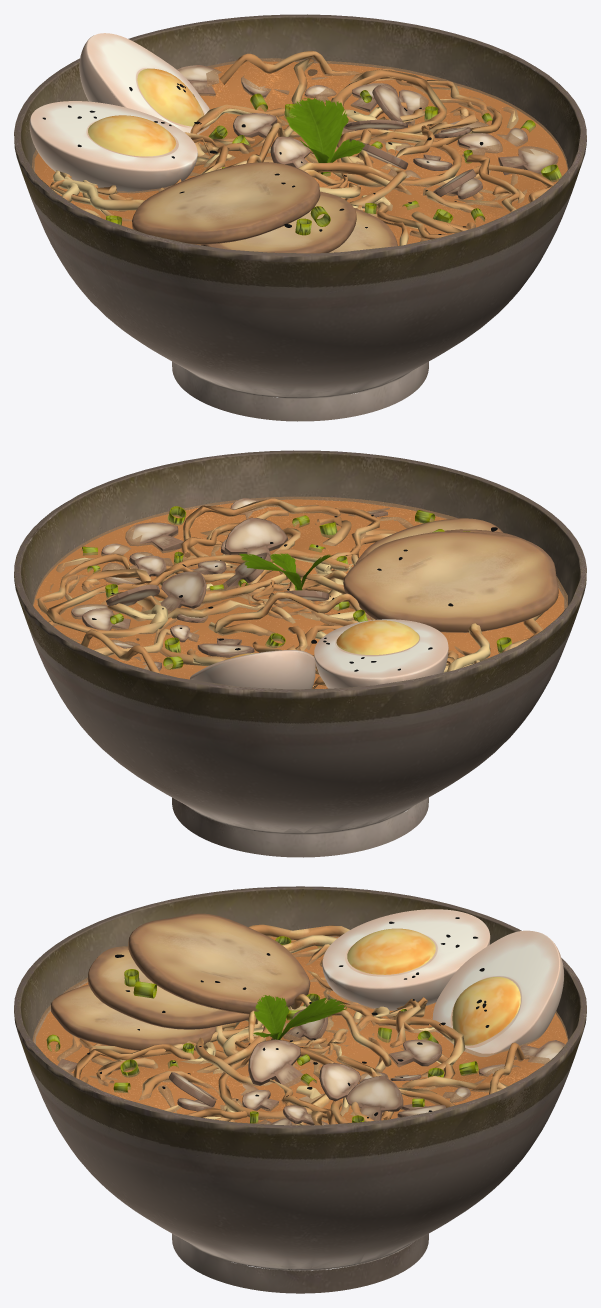
The model's file is tori-paitan.glb.
The picture shows the model from 3 angles, top to bottom: view 1: azimuth 30°, elevation 25°; view 2: azimuth 150°, elevation 25°; view 3: azimuth 270°, elevation 25°; orthographic projection.
Parts seen in each view (by area): view 1: Bol_LP, Soupe_LP1, Soupe_LP, Poulet01_LP, Oeuf, Oeuf03, JauneOeuf (×2), Poulet01_LP1, corriendre, Nouille03_LP (×2), Nouille23_LP, Nouille10_LP (×2) (+18 smaller); view 2: Bol_LP, Soupe_LP1, Poulet01_LP, Soupe_LP, Oeuf, Oeuf03, Nouille10_LP (×2), Nouille02_LP (×2), Nouille03_LP (×2), Nouille23_LP, JauneOeuf, Champignon03_LP18 (+15 smaller); view 3: Bol_LP, Soupe_LP1, Poulet01_LP, Soupe_LP, Oeuf, Oeuf03, JauneOeuf (×2), Poulet01_LP1, Poulet01_LP2, Nouille02_LP (×2), Champignon03_LP20, Champignon03_LP24 (+22 smaller).
Boxes of the visible parts, bbox=[...] form: Bol_LP: bbox=[14, 14, 586, 421]; Soupe_LP1: bbox=[32, 58, 568, 245]; Soupe_LP: bbox=[35, 61, 567, 245]; Poulet01_LP: bbox=[132, 162, 320, 244]; Oeuf: bbox=[29, 101, 197, 192]; Oeuf03: bbox=[79, 33, 209, 134]; JauneOeuf (×2): bbox=[88, 68, 203, 156]; Poulet01_LP1: bbox=[201, 191, 356, 253]; corriendre: bbox=[286, 98, 348, 176]; Nouille03_LP (×2): bbox=[377, 96, 502, 239]; Nouille23_LP: bbox=[291, 57, 446, 133]; Nouille10_LP (×2): bbox=[350, 68, 554, 212]; Bol_LP: bbox=[14, 450, 586, 857]; Soupe_LP1: bbox=[33, 496, 567, 688]; Poulet01_LP: bbox=[343, 531, 558, 632]; Soupe_LP: bbox=[33, 499, 563, 688]; Oeuf: bbox=[314, 619, 448, 688]; Oeuf03: bbox=[190, 650, 315, 689]; Nouille10_LP (×2): bbox=[37, 498, 340, 641]; Nouille02_LP (×2): bbox=[107, 554, 307, 666]; Nouille03_LP (×2): bbox=[50, 504, 380, 611]; Nouille23_LP: bbox=[46, 584, 171, 655]; JauneOeuf: bbox=[336, 620, 419, 654]; Champignon03_LP18: bbox=[224, 517, 287, 555]; Bol_LP: bbox=[14, 886, 586, 1293]; Soupe_LP1: bbox=[32, 936, 568, 1125]; Poulet01_LP: bbox=[128, 913, 310, 1014]; Soupe_LP: bbox=[36, 937, 567, 1123]; Oeuf: bbox=[322, 909, 490, 1010]; Oeuf03: bbox=[432, 930, 563, 1056]; JauneOeuf (×2): bbox=[347, 928, 520, 1045]; Poulet01_LP1: bbox=[87, 946, 249, 1029]; Poulet01_LP2: bbox=[51, 984, 215, 1050]; Nouille02_LP (×2): bbox=[218, 1015, 455, 1119]; Champignon03_LP20: bbox=[248, 1039, 302, 1086]; Champignon03_LP24: bbox=[346, 1076, 403, 1120].
Size of the model in its own units: 0.1026 by 0.0517 by 0.1026.
11 materials, 8 textured.
